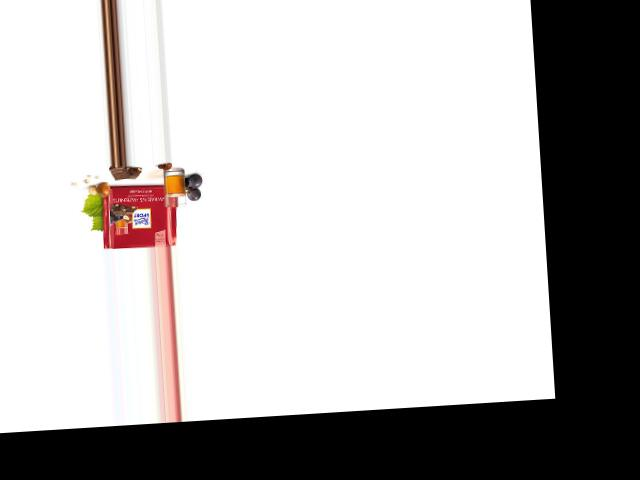chocolate: (97, 182, 176, 249)
